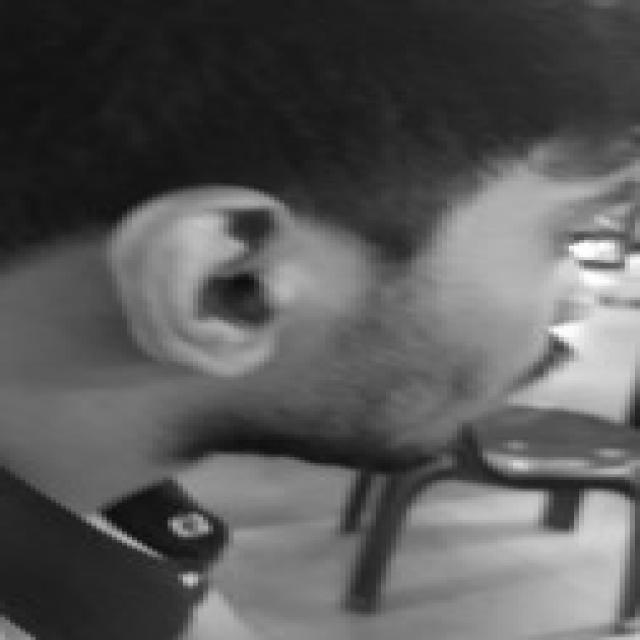ear: (107, 186, 295, 371)
